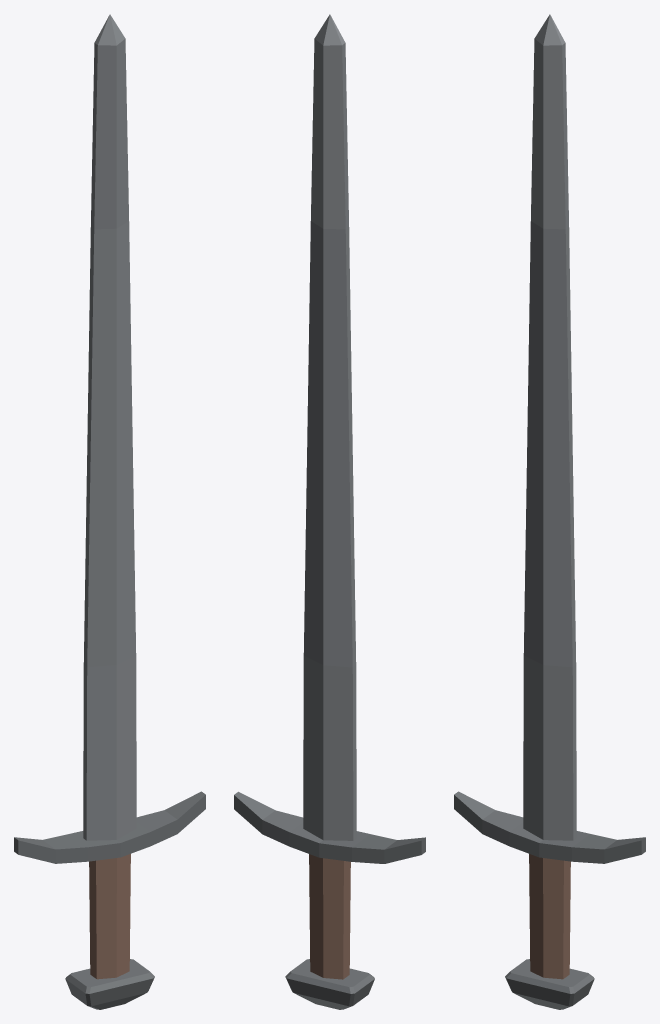
Rendered from Sword.005.fbx.
3 views of the same model, side by side, from view 1: azimuth 30°, elevation 25°; view 2: azimuth 150°, elevation 25°; view 3: azimuth 330°, elevation 25° (orthographic).
Parts seen in each view (by area): view 1: Sword.005; view 2: Sword.005; view 3: Sword.005.
Boxes of the visible parts, box(x1,y1,x2,y2) form: Sword.005: box(14, 14, 205, 1009); Sword.005: box(234, 14, 425, 1009); Sword.005: box(454, 14, 645, 1009).
Bounding box in the file's own units: 17.86 × 90.17 × 3.82.
